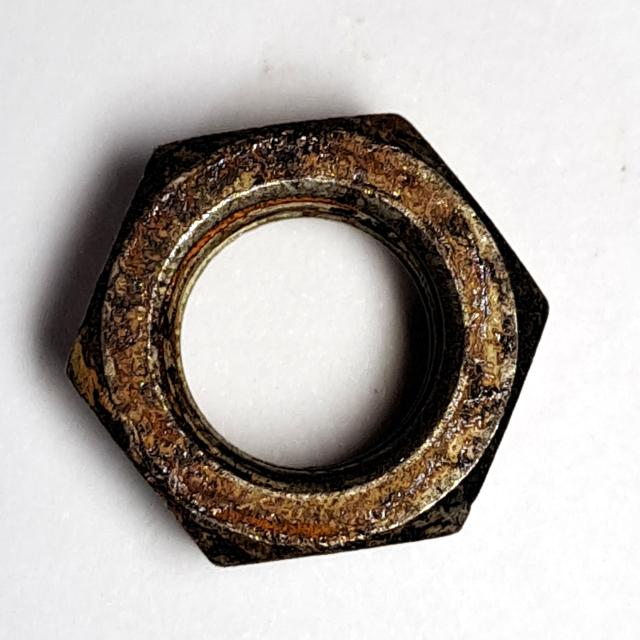Rust: (53, 94, 573, 586)
